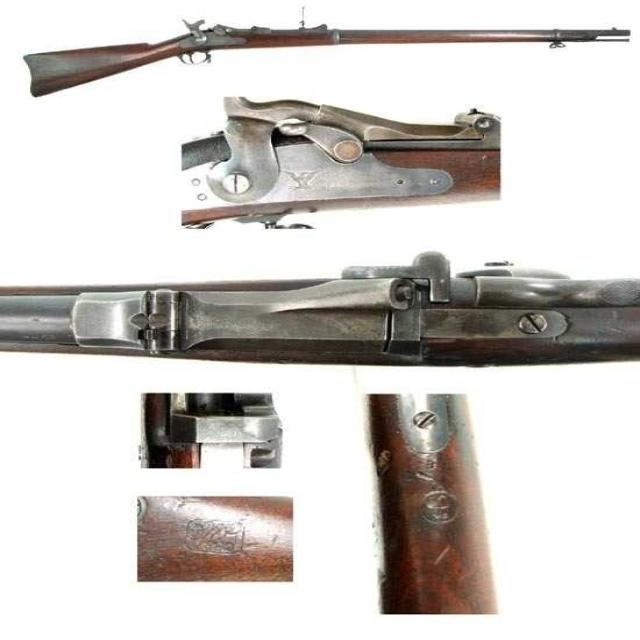heavyweapon: (14, 3, 640, 134)
